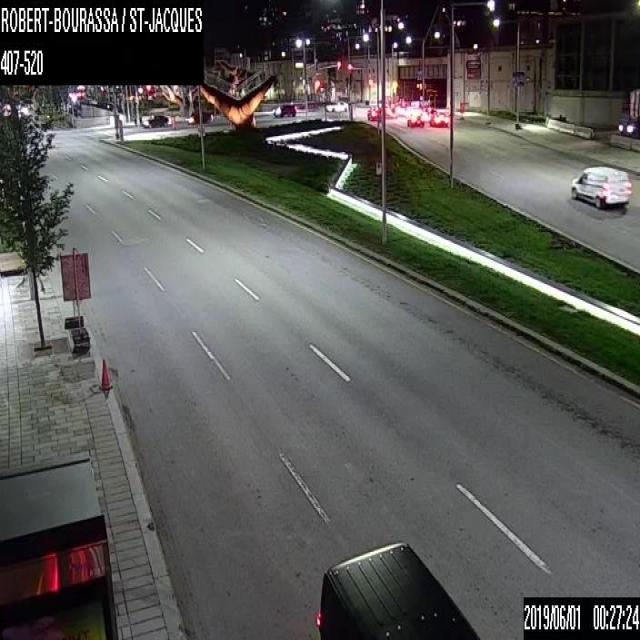construction: (99, 356, 112, 391), (459, 100, 464, 114)
vehicle: (314, 538, 481, 638), (568, 162, 632, 206), (618, 115, 638, 137), (273, 101, 295, 118), (142, 113, 168, 127), (367, 103, 388, 119), (406, 110, 425, 126), (429, 110, 448, 126), (325, 99, 349, 110)
